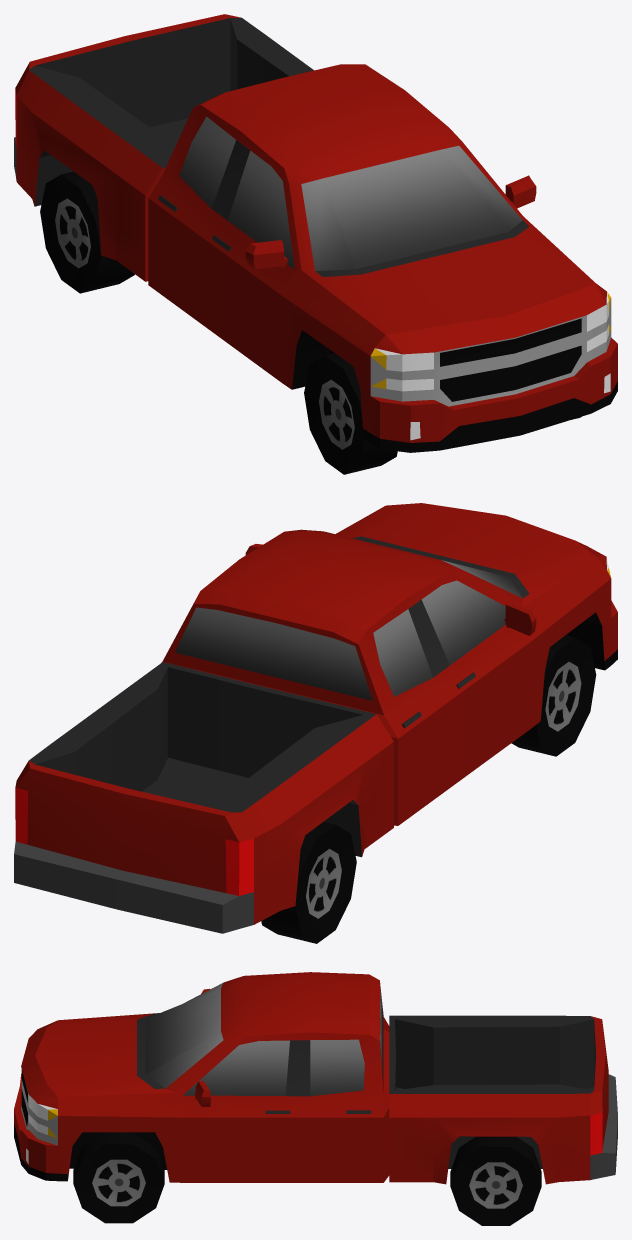
File: pickup_truck.glb
3 views of the same model, one above another, from view 1: azimuth 30°, elevation 25°; view 2: azimuth 150°, elevation 25°; view 3: azimuth 270°, elevation 25° (orthographic). The views are drawn at different scales.
Parts seen in each view (by area): view 1: Pickup1.Body_4, Pickup1.Wheel.Bk.R_1, Pickup1.Wheel.Ft.R_3; view 2: Pickup1.Body_4, Pickup1.Wheel.Bk.R_1, Pickup1.Wheel.Ft.R_3; view 3: Pickup1.Body_4, Pickup1.Wheel.Bk.L_0, Pickup1.Wheel.Ft.L_2.
Part boxes in pixels (x1,y1,x2,y2): Pickup1.Body_4: [14, 14, 617, 452]; Pickup1.Wheel.Bk.R_1: [40, 171, 134, 293]; Pickup1.Wheel.Ft.R_3: [304, 353, 397, 474]; Pickup1.Body_4: [14, 503, 617, 933]; Pickup1.Wheel.Bk.R_1: [261, 822, 356, 943]; Pickup1.Wheel.Ft.R_3: [511, 635, 596, 756]; Pickup1.Body_4: [14, 972, 617, 1184]; Pickup1.Wheel.Bk.L_0: [450, 1136, 541, 1225]; Pickup1.Wheel.Ft.L_2: [73, 1132, 164, 1223].
Size of the model in its own units: 2.39 by 1.94 by 5.84.
3 materials, 3 textured.
